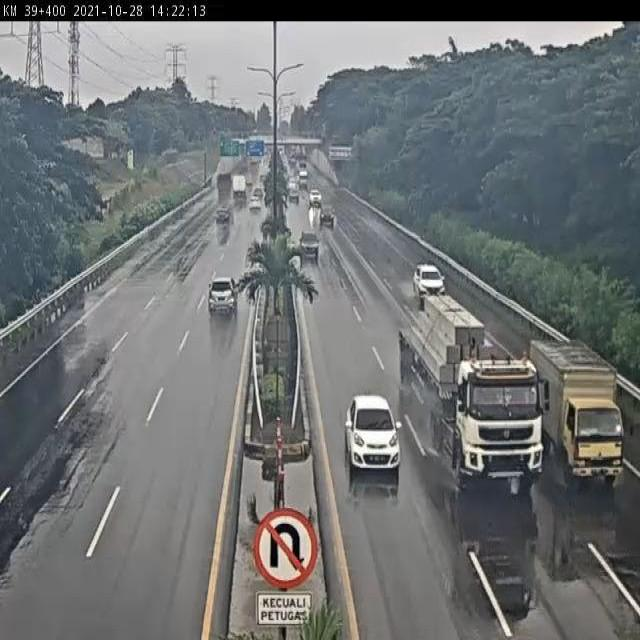car: (344, 388, 404, 475), (206, 274, 240, 318), (416, 263, 446, 293)
truck-s-: (529, 338, 626, 486)
truck-xl-: (397, 294, 542, 494)
